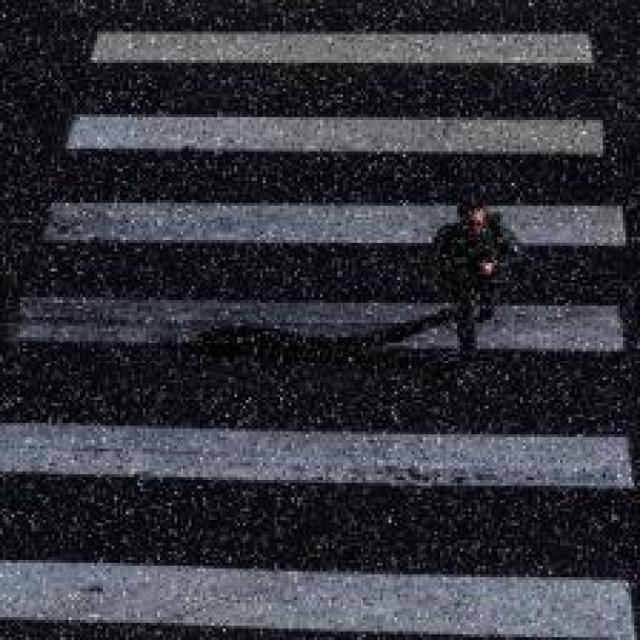crosswalk: (1, 31, 640, 640)
